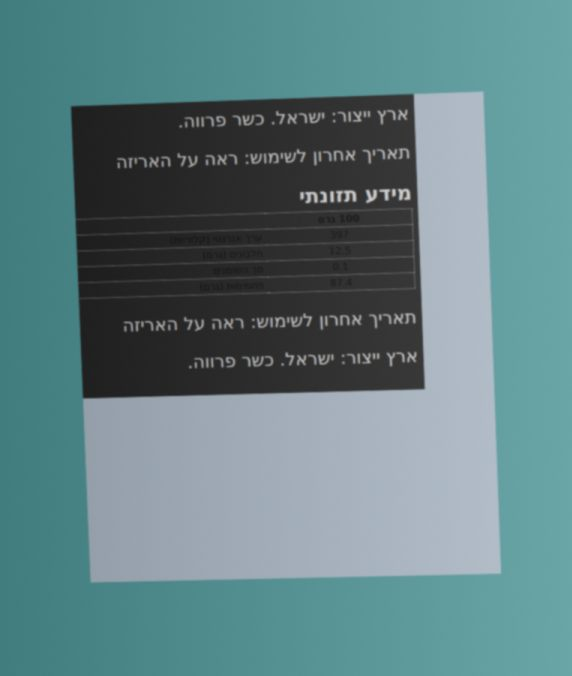carbs: (328, 275, 354, 290)
energy: (328, 227, 351, 242)
fat: (331, 259, 350, 274)
protein: (327, 243, 353, 258)
